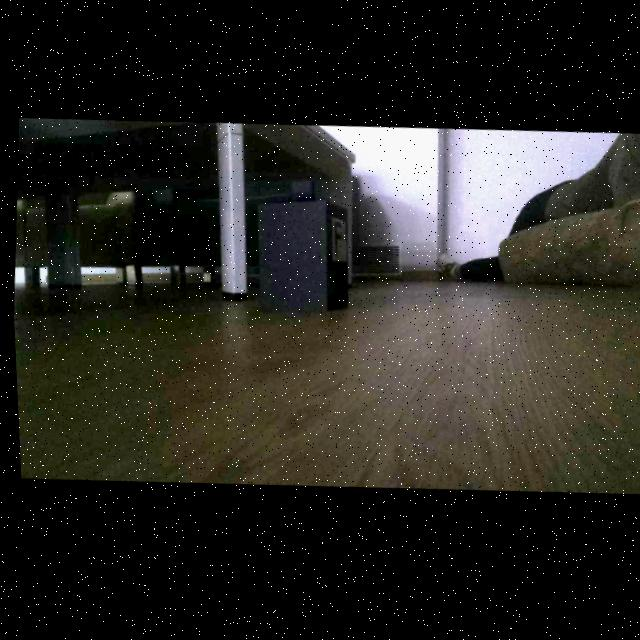F: (332, 225, 340, 258)
